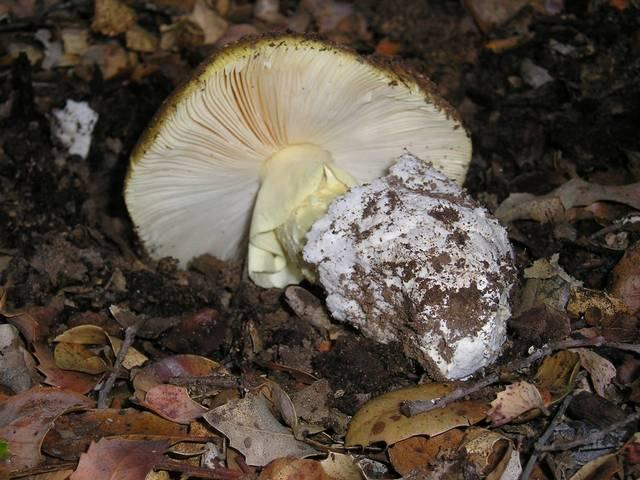edible_mushroom: (121, 30, 473, 290), (300, 149, 519, 382)
